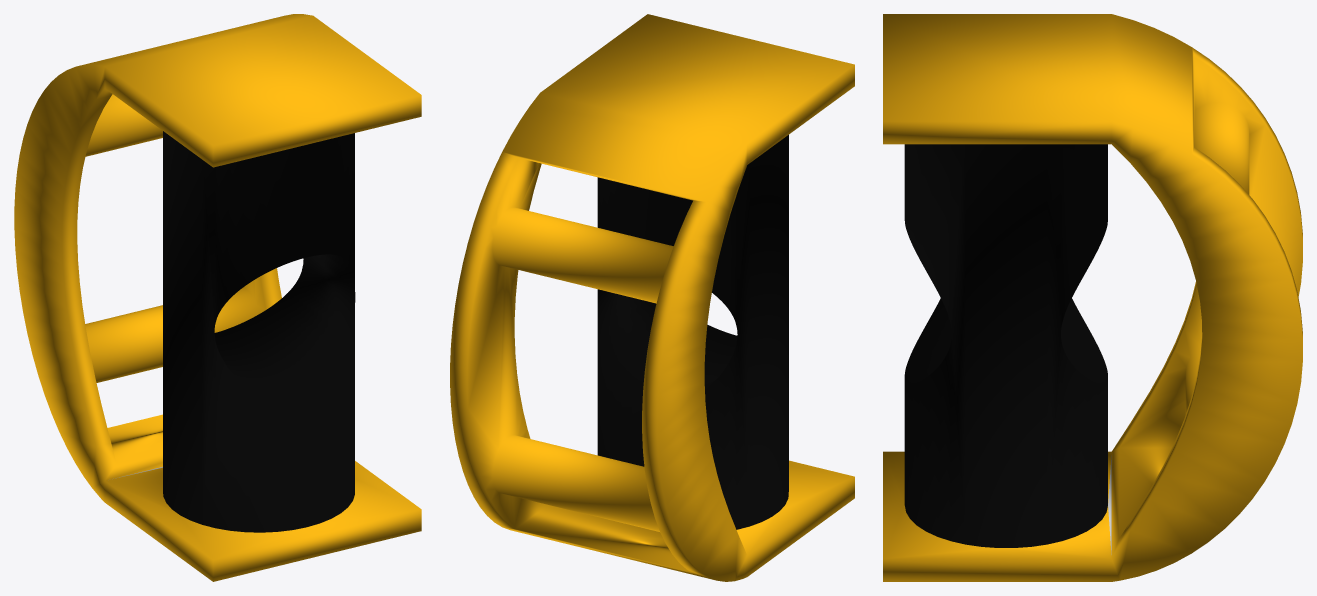
File: steeringRod.obj
3 renders of one model, left to right at view 1: azimuth 30°, elevation 25°; view 2: azimuth 150°, elevation 25°; view 3: azimuth 270°, elevation 25°, orthographic. The views are drawn at different scales.
Visible parts, largest first — view 1: steeringRod; view 2: steeringRod; view 3: steeringRod.
Part boxes in pixels (x1=…): steeringRod: x1=14, y1=14, x2=421, y2=581; steeringRod: x1=450, y1=14, x2=854, y2=581; steeringRod: x1=883, y1=14, x2=1302, y2=581.
Bounding box in the file's own units: 0.1 × 0.2 × 0.1652.
